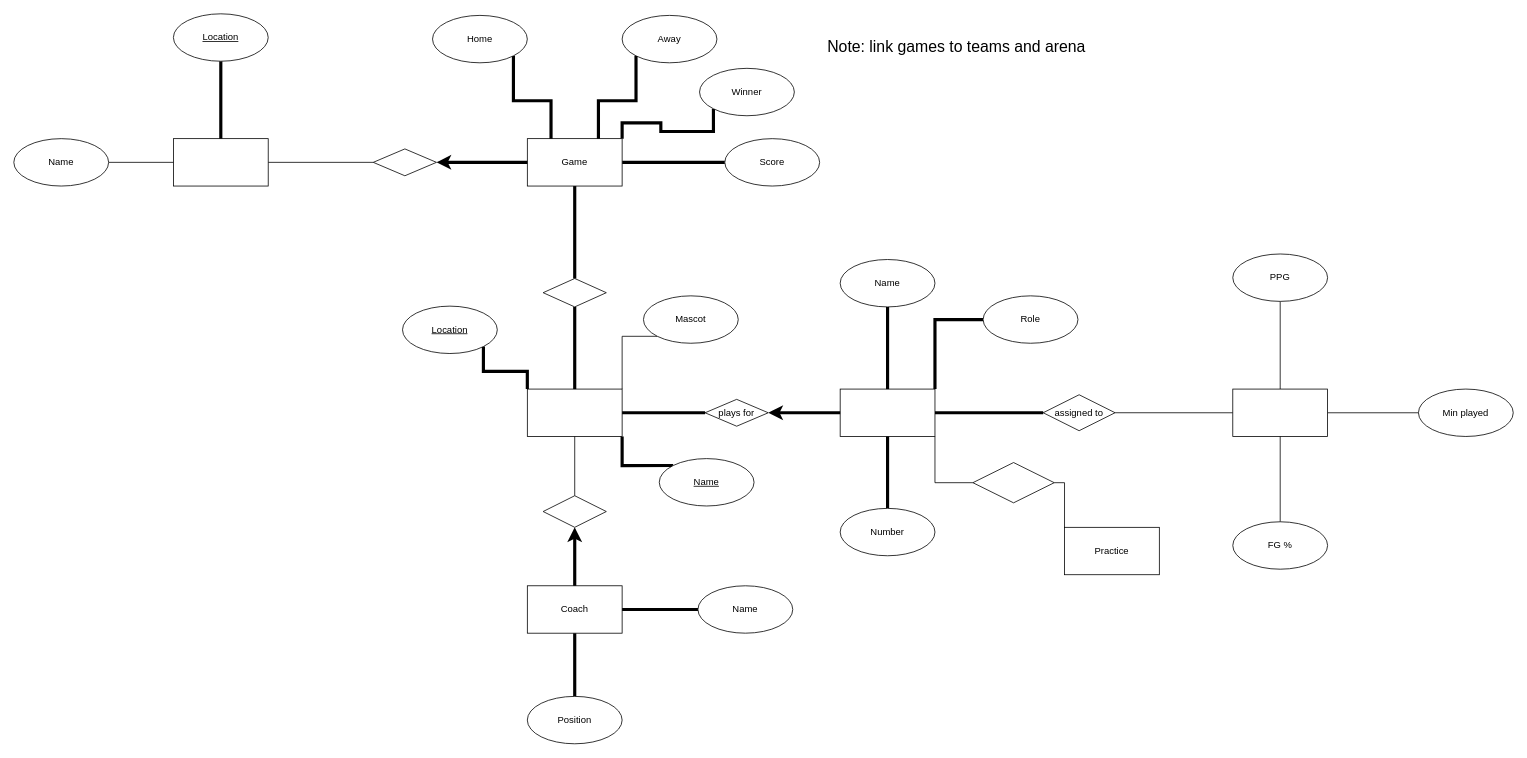
This 1527x758 diagram has some shape labels left out. The centre of each missing label's shape, as x and y in pixels:
Arena: pixel 220 162
coaches: pixel 574 511
participates in: pixel 1013 482
played in: pixel 404 162
Player: pixel 887 412
plays: pixel 574 292
Stats: pixel 1280 412
Team: pixel 574 412
